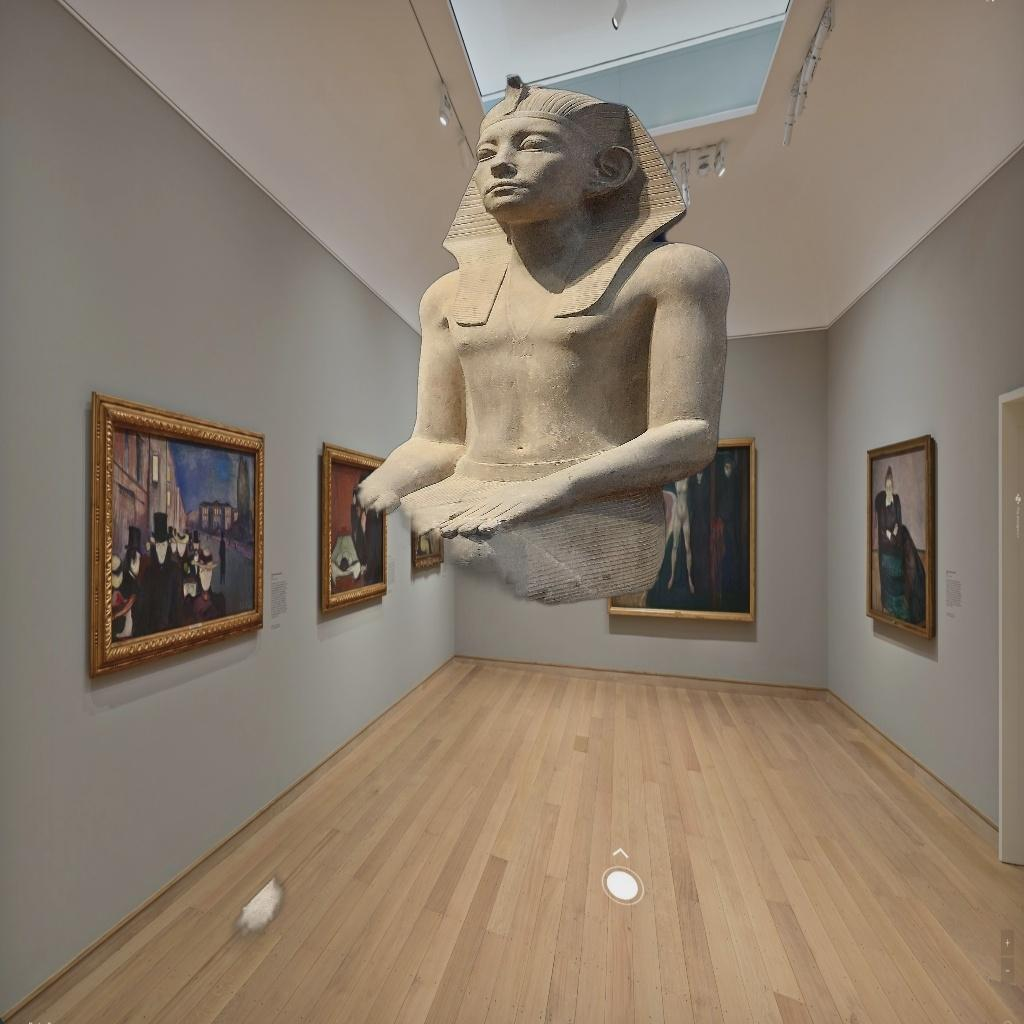King Amenemhat 3: (162, 73, 734, 1020)
